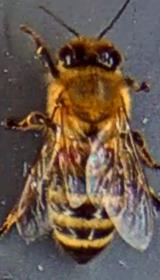varroa_mite: (46, 134, 84, 174)
